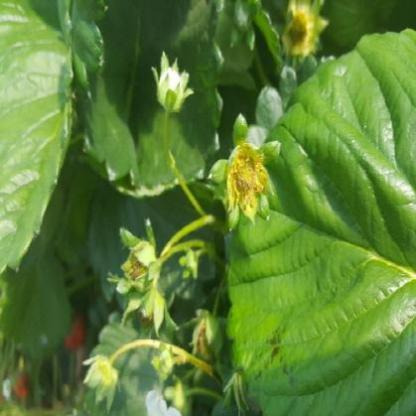Strawberry_Blossom_Blight: (224, 144, 270, 214)
